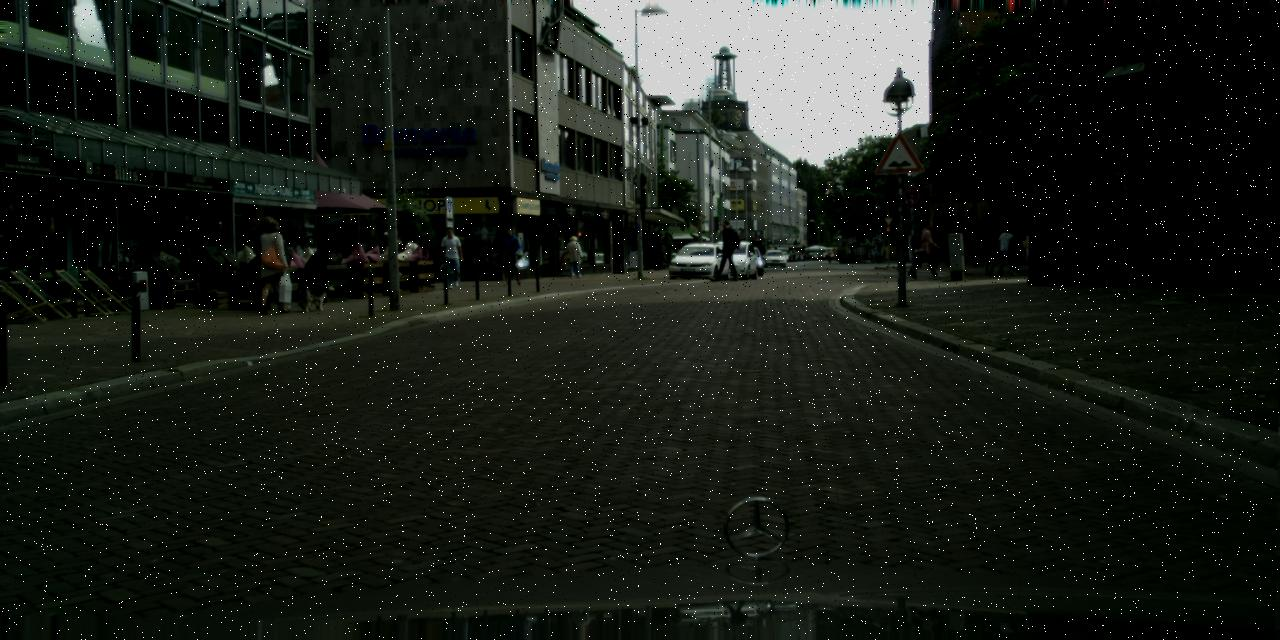ped: (250, 216, 288, 311), (254, 218, 292, 311), (439, 226, 463, 286), (712, 219, 736, 279), (914, 221, 938, 278), (500, 227, 522, 285), (997, 225, 1017, 274), (979, 227, 998, 275), (1007, 230, 1025, 274), (566, 236, 582, 276), (398, 231, 418, 253), (1019, 234, 1030, 264), (930, 241, 940, 267), (969, 239, 979, 265), (912, 242, 922, 266), (381, 231, 388, 254), (849, 247, 855, 263), (873, 248, 879, 263)
